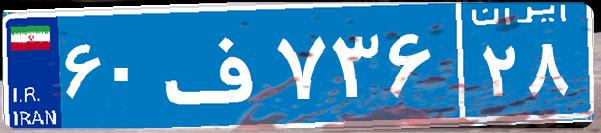0: (110, 28, 158, 105)
2: (475, 38, 525, 113)
3: (330, 28, 385, 110)
6: (385, 28, 445, 110), (57, 26, 110, 107)
7: (273, 28, 330, 110)
8: (525, 38, 570, 115)
ف: (158, 15, 273, 115)
